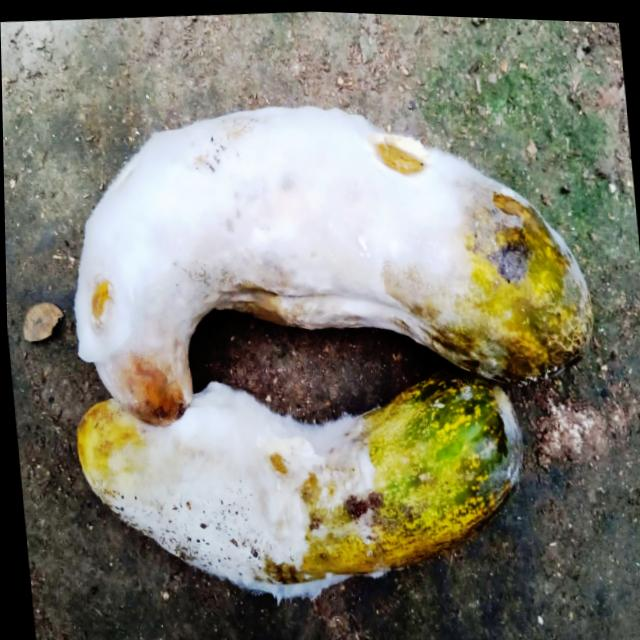Pythium-Fruit-Rot: (53, 81, 510, 387), (99, 363, 386, 613)
